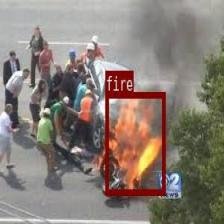fire: (105, 92, 165, 194)
